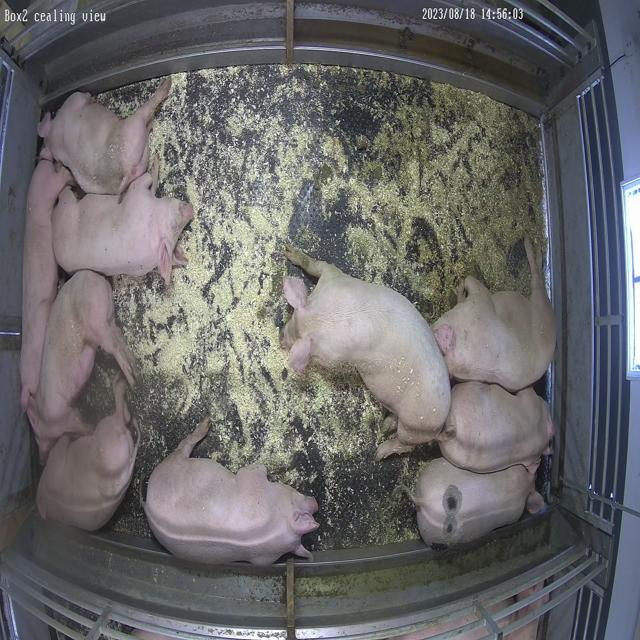Dirt: (301, 66, 462, 184)
Pig: (284, 245, 452, 460), (144, 420, 319, 566), (433, 239, 557, 392), (33, 270, 135, 442), (36, 374, 139, 532), (52, 173, 193, 282), (38, 79, 171, 194), (20, 155, 72, 414), (417, 459, 546, 546), (438, 384, 556, 474)
